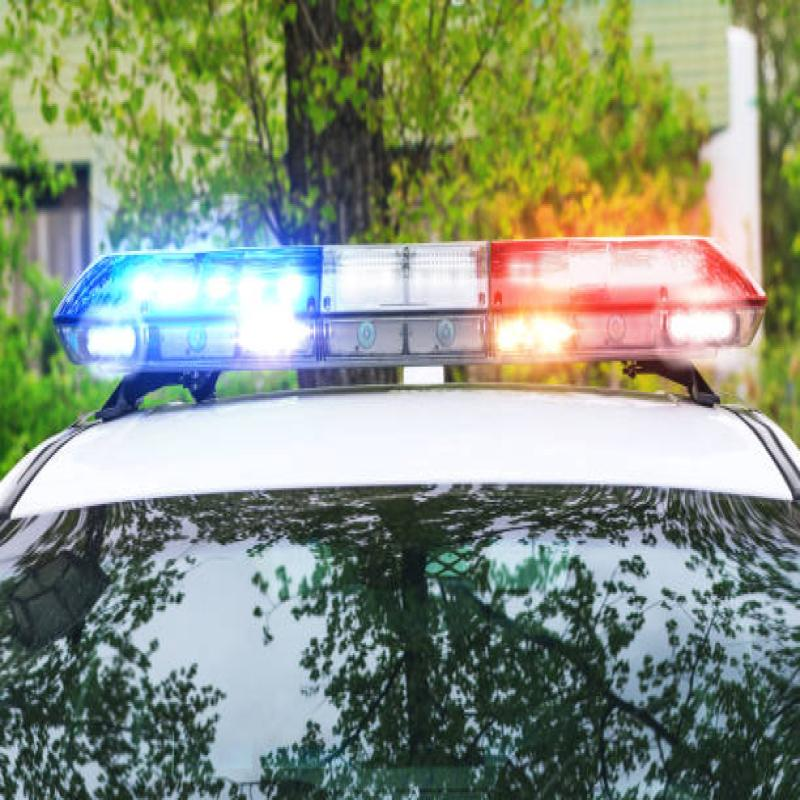AmbulanceSiren: (35, 217, 766, 376)
